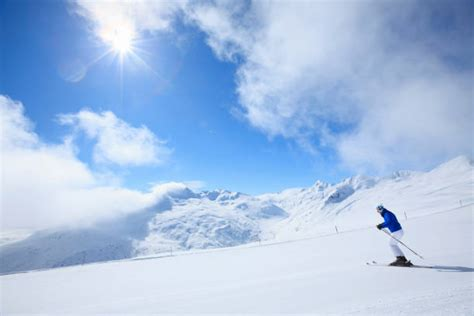skier: (349, 199, 436, 270)
